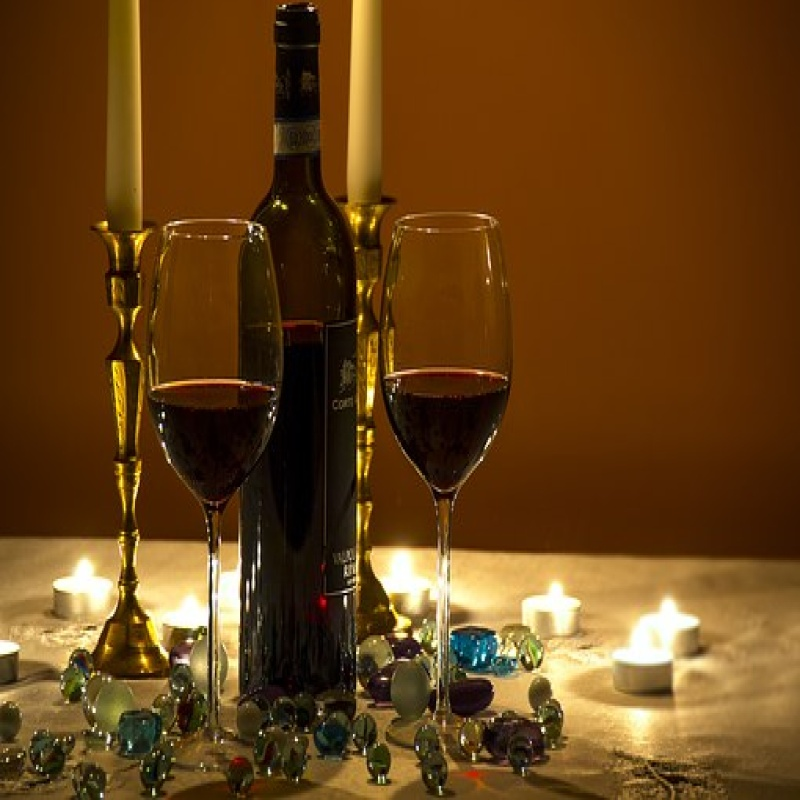wine: (242, 20, 365, 700)
